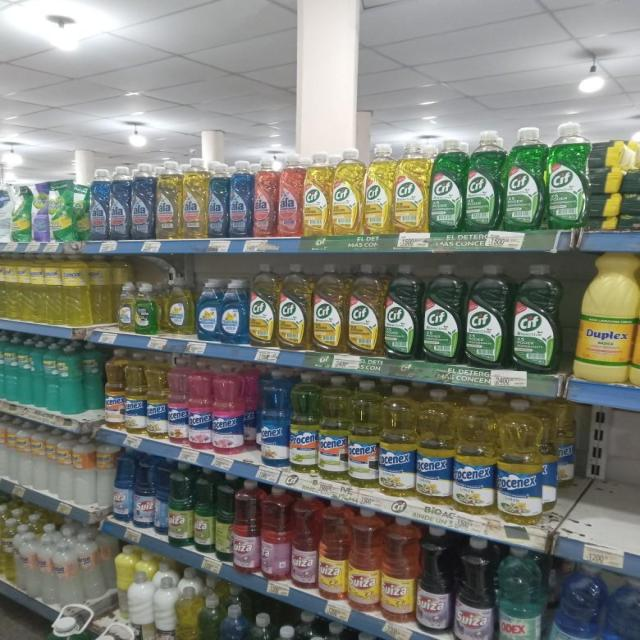ala_conc_amarillo: (156, 159, 181, 240), (182, 158, 207, 238)
ala_conc_azul: (228, 159, 252, 238), (131, 162, 155, 240), (208, 160, 228, 238), (110, 165, 130, 240), (90, 166, 109, 240)
ala_conc_rojo: (277, 154, 302, 237), (253, 155, 277, 238)
cif_conc_bot_amarilla: (394, 138, 429, 232), (348, 262, 382, 357), (313, 262, 346, 353), (278, 262, 311, 350), (364, 142, 393, 235), (332, 147, 362, 235), (249, 262, 277, 348), (303, 151, 330, 237)
cif_conc_botella_verde: (511, 263, 563, 373), (465, 263, 509, 369), (546, 121, 588, 230), (504, 126, 546, 231), (422, 263, 463, 364), (466, 130, 502, 232), (384, 262, 420, 360), (430, 136, 464, 232)
esencial: (63, 253, 90, 326), (44, 253, 62, 324), (0, 252, 17, 320), (242, 611, 268, 640)
magistral_con_amarillo: (164, 278, 194, 336)
magistral_con_azul: (604, 575, 640, 640), (220, 278, 248, 344), (196, 278, 220, 342)
